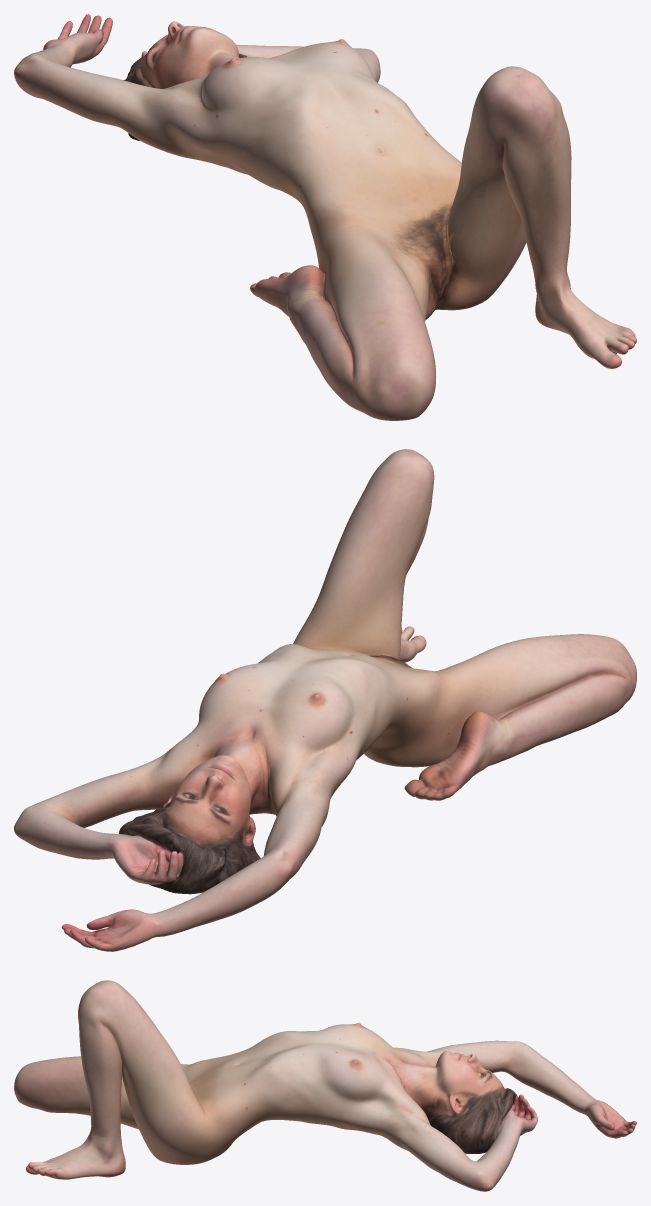
Rendered from nude_girl18.glb.
3 views of the same model, one above another, from view 1: azimuth 30°, elevation 25°; view 2: azimuth 150°, elevation 25°; view 3: azimuth 270°, elevation 25° (orthographic). The views are drawn at different scales.
Parts seen in each view (by area): view 1: Object_TexMap_0_0; view 2: Object_TexMap_0_0, Object_TexMap_0.006_4; view 3: Object_TexMap_0_0, Object_TexMap_0.006_4.
Part boxes in pixels (left/top/right/bottom): Object_TexMap_0_0: left=14, top=14, right=636, bottom=420; Object_TexMap_0_0: left=14, top=449, right=636, bottom=951; Object_TexMap_0.006_4: left=119, top=800, right=260, bottom=894; Object_TexMap_0_0: left=14, top=980, right=636, bottom=1191; Object_TexMap_0.006_4: left=427, top=1083, right=522, bottom=1153.
Bounding box in the file's own units: 1.08 × 0.7967 × 2.5.
5 materials, 5 textured.
